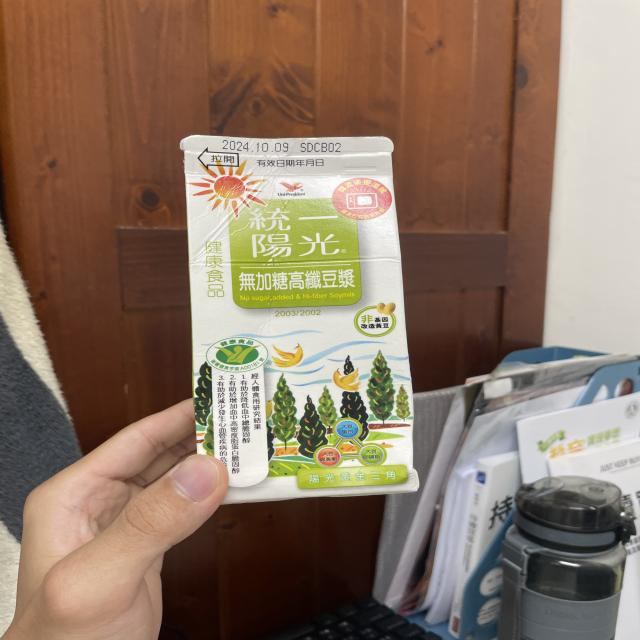TongYi_UnsweetenedHighFiberSoyMilk: (179, 131, 426, 505)
